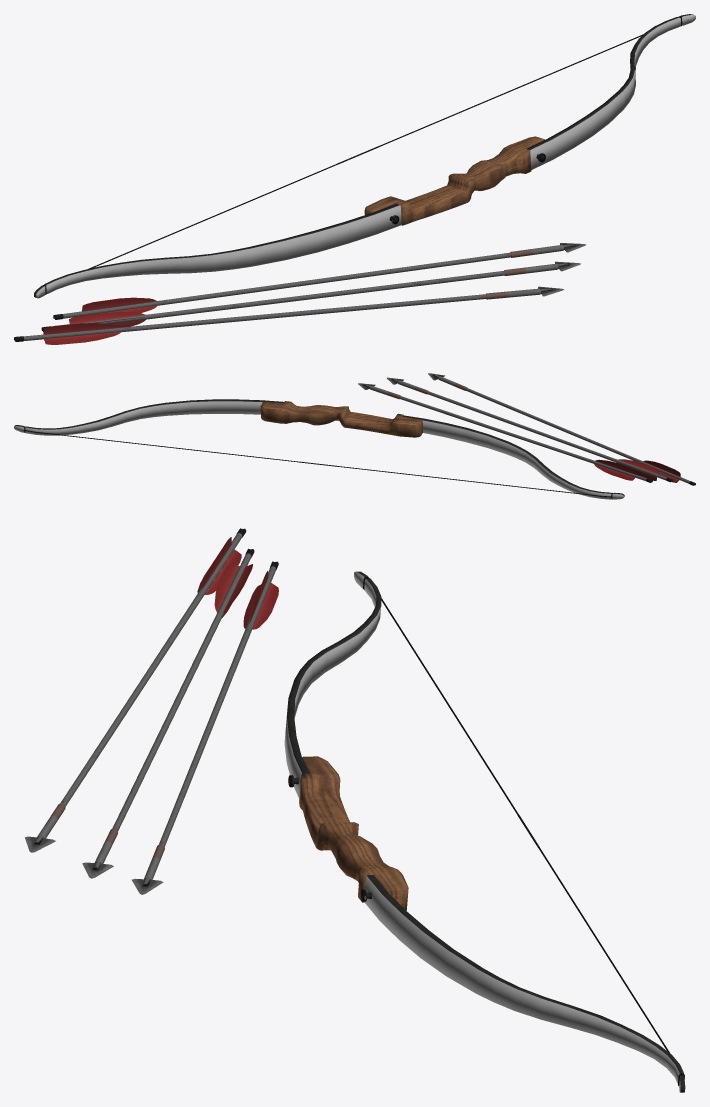
File: recurve-bow.glb
The picture shows the model from 3 angles, top to bottom: view 1: azimuth 30°, elevation 25°; view 2: azimuth 150°, elevation 25°; view 3: azimuth 270°, elevation 25°; orthographic projection. The views are drawn at different scales.
Parts seen in each view (by area): view 1: bow_world, arrow_new.002, arrow_new, arrow_new.001; view 2: bow_world, arrow_new, arrow_new.001, arrow_new.002; view 3: bow_world, arrow_new.001, arrow_new, arrow_new.002.
Part boxes in pixels (x1=…): bow_world: x1=34, y1=14, x2=695, y2=298; arrow_new.002: x1=14, y1=286, x2=563, y2=344; arrow_new: x1=53, y1=243, x2=586, y2=319; arrow_new.001: x1=41, y1=261, x2=580, y2=332; bow_world: x1=14, y1=399, x2=624, y2=499; arrow_new: x1=358, y1=383, x2=652, y2=482; arrow_new.001: x1=387, y1=377, x2=672, y2=482; arrow_new.002: x1=428, y1=373, x2=695, y2=485; bow_world: x1=284, y1=571, x2=685, y2=1092; arrow_new.001: x1=82, y1=548, x2=254, y2=878; arrow_new: x1=131, y1=561, x2=278, y2=894; arrow_new.002: x1=25, y1=528, x2=246, y2=852.
Bounding box in the file's own units: 1.65 × 0.0586 × 0.8254.
Materials: 2 (2 with a texture image).
